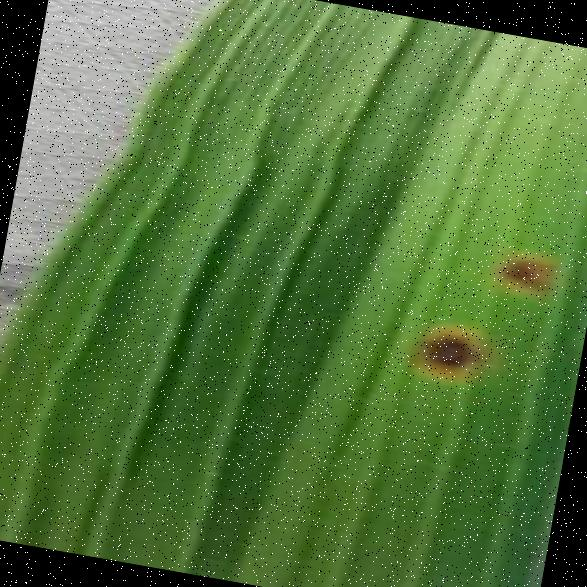Brown_Spot: (386, 295, 528, 406), (479, 231, 574, 317)
